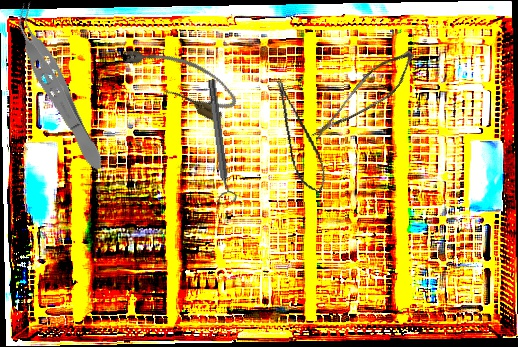Cannula: (114, 28, 244, 128)
Fixation Ring: (202, 78, 238, 204)
Micro Scissor: (311, 35, 420, 160), (273, 75, 330, 197)
Tissue Forceps: (3, 0, 113, 176)
